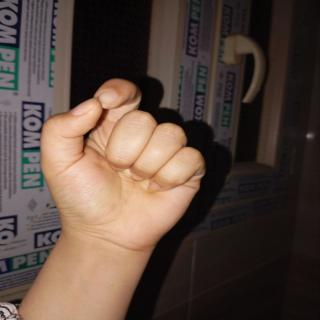FAA: (35, 72, 232, 270)
